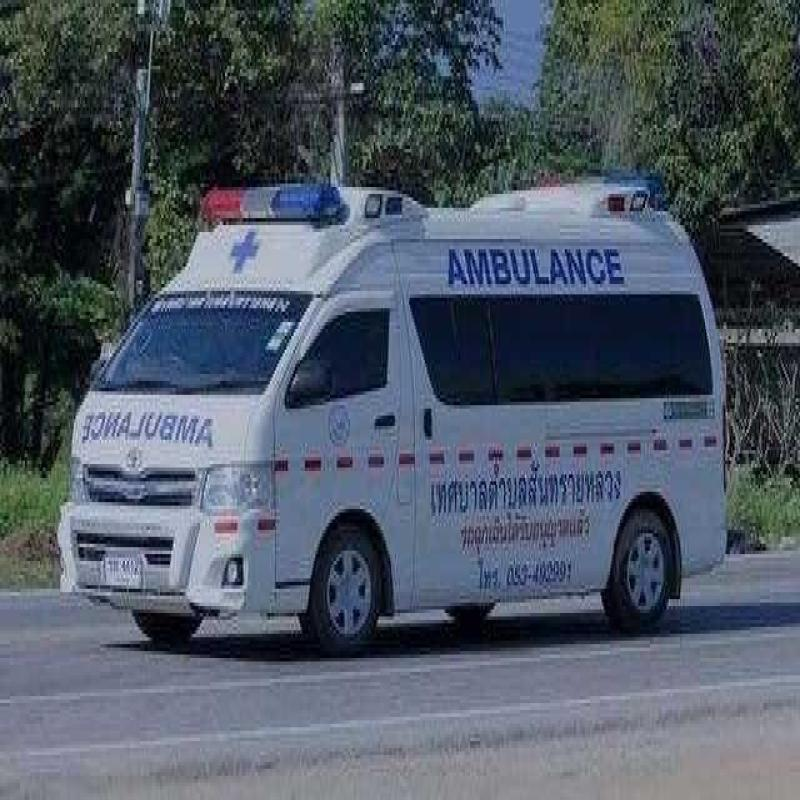AmbulanceSiren: (195, 146, 342, 254)
